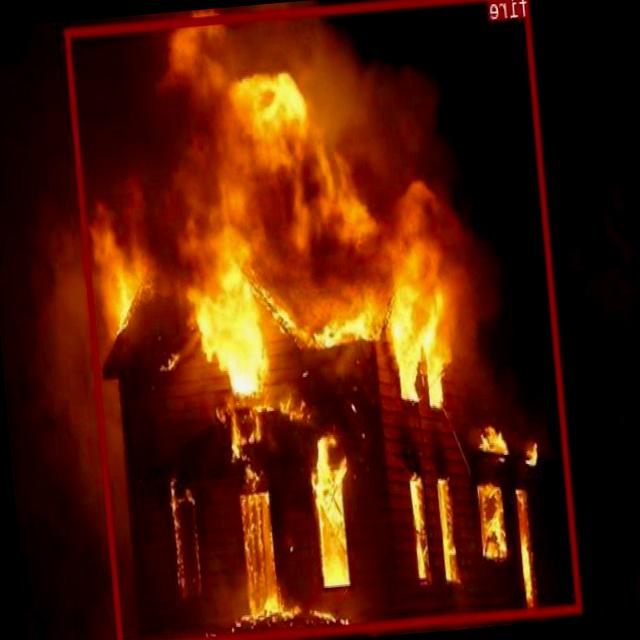fire: (65, 0, 582, 640)
